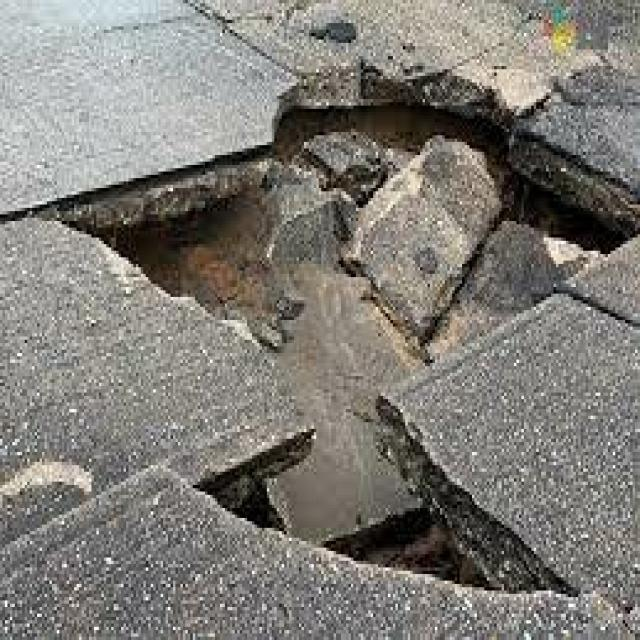Pothole: (17, 10, 593, 640)
